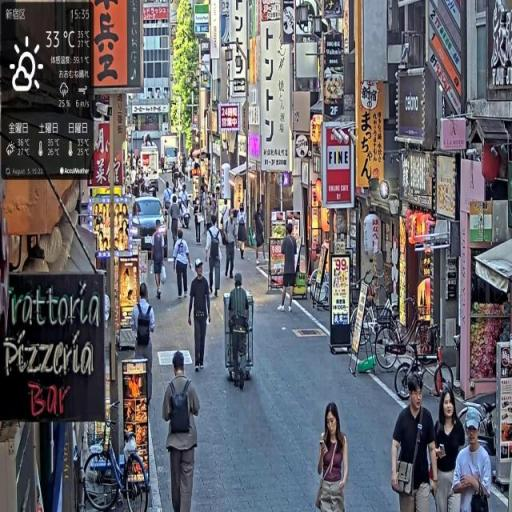person: (391, 374, 440, 511), (162, 349, 202, 512), (433, 389, 468, 512), (451, 413, 494, 512), (315, 400, 350, 512), (187, 259, 214, 373), (229, 273, 252, 379), (280, 223, 300, 313), (207, 215, 223, 302), (152, 221, 169, 301), (174, 229, 192, 300), (171, 195, 183, 251)
